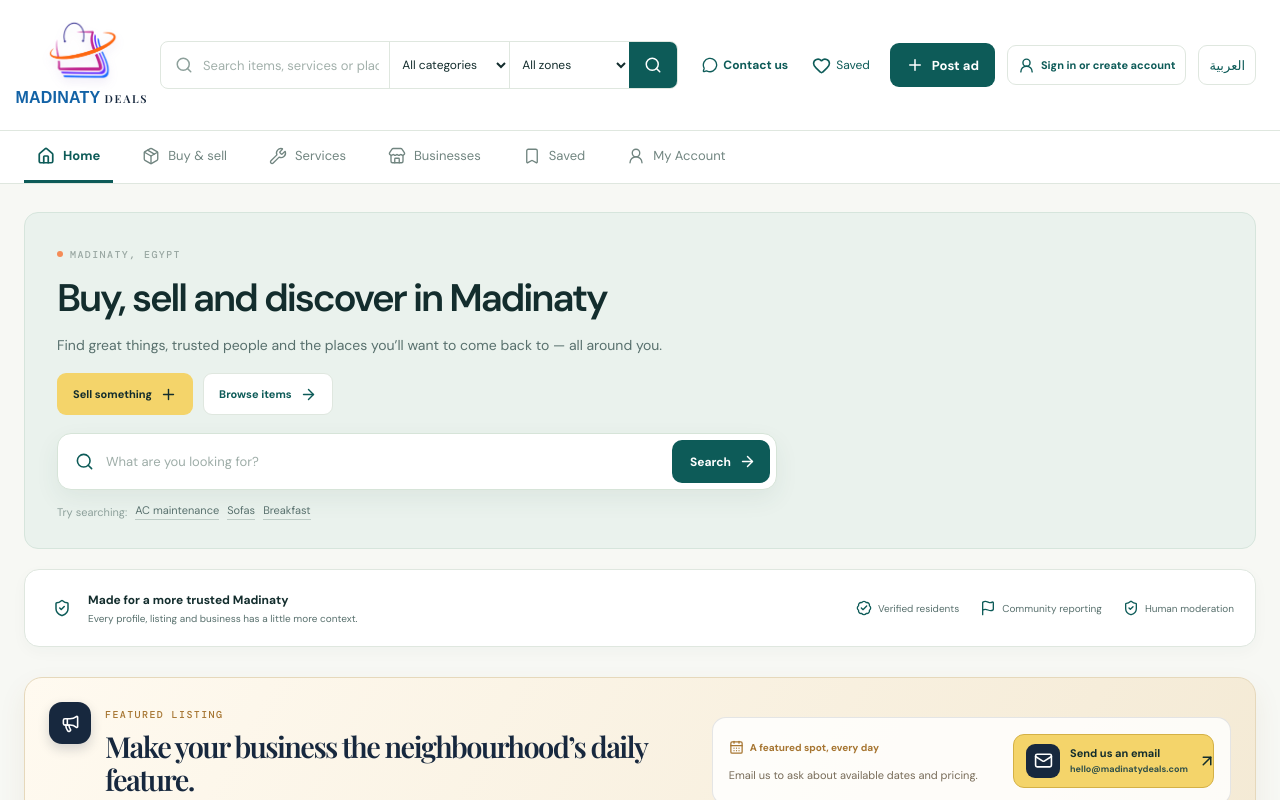
Test: returns to home after a normal email-code sign-in
Click the button "Sign in or create account" at point(1097, 65), box [1007,45,1186,85]
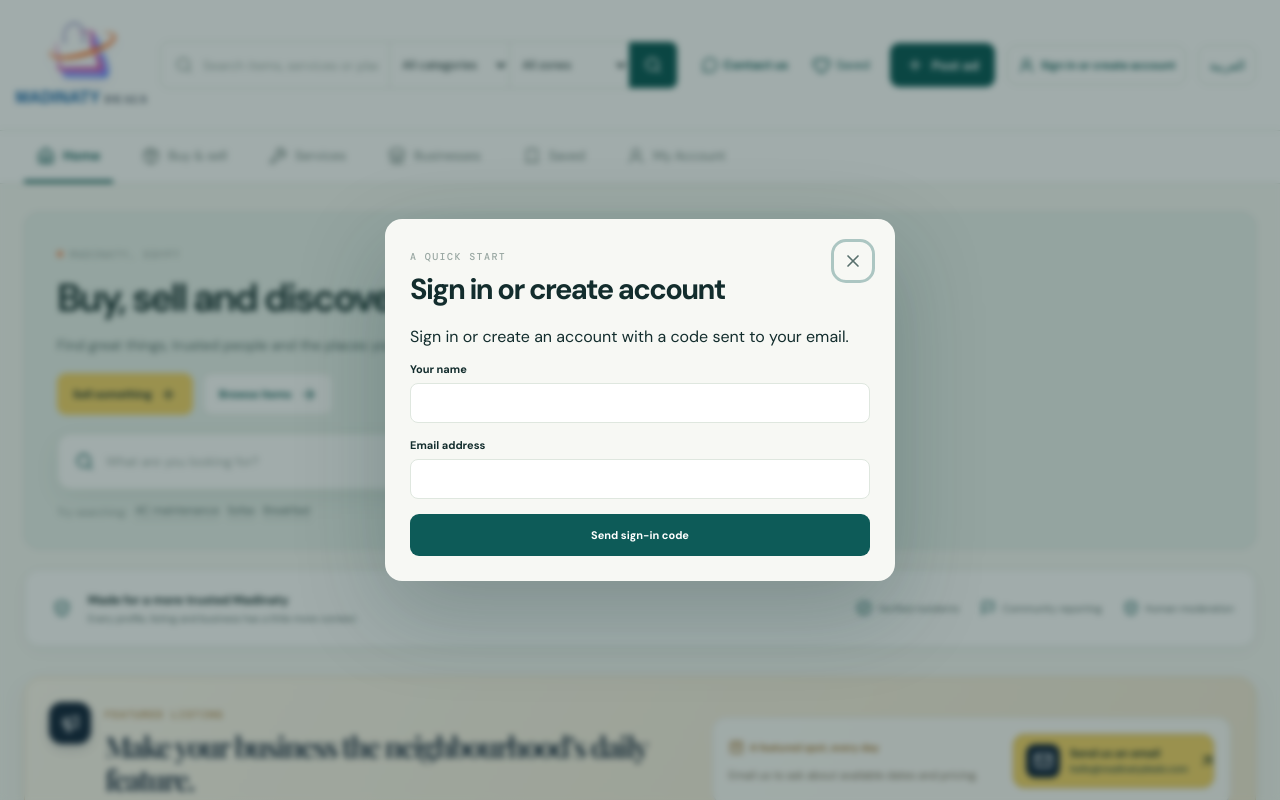
Type "Nour" into the field labelled "Your name" at point(640, 403), box [410,383,870,423]
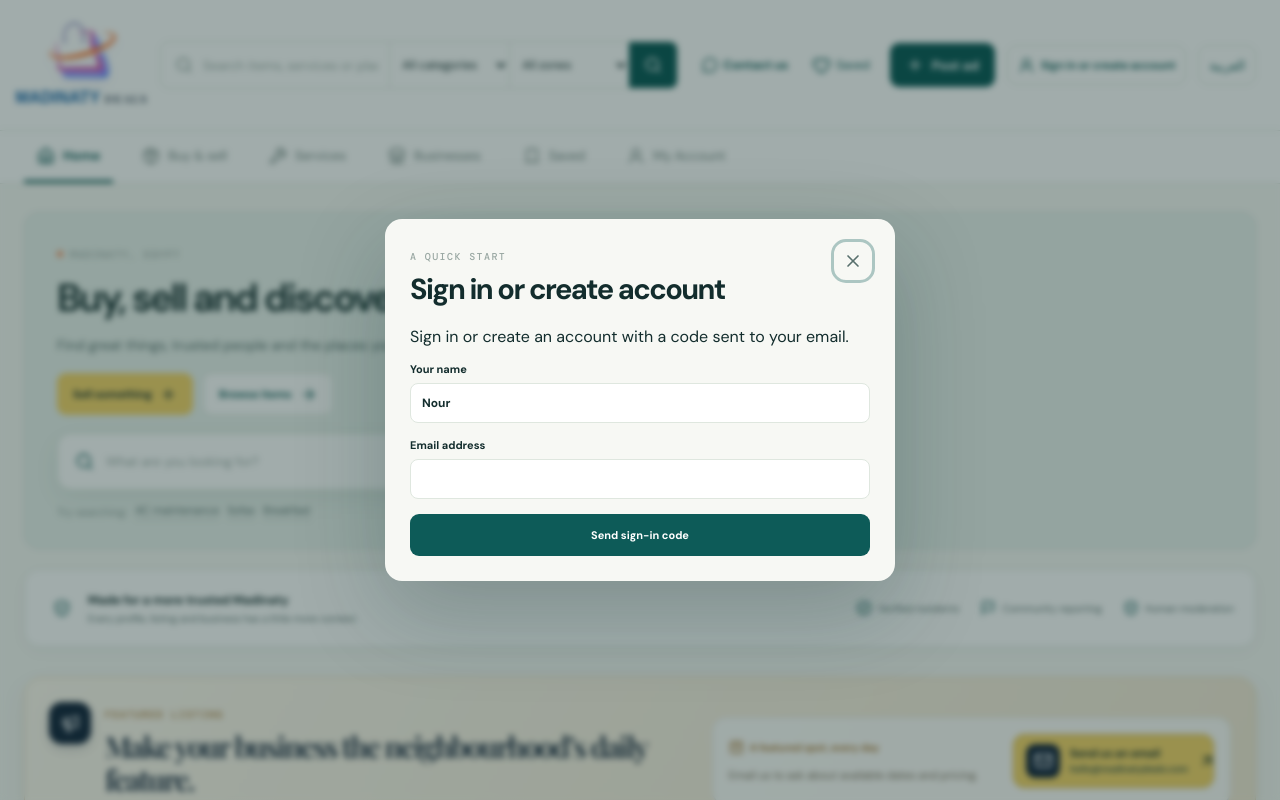
Type "nour@example.test" into the field labelled "Email address" at point(640, 479), box [410,459,870,499]
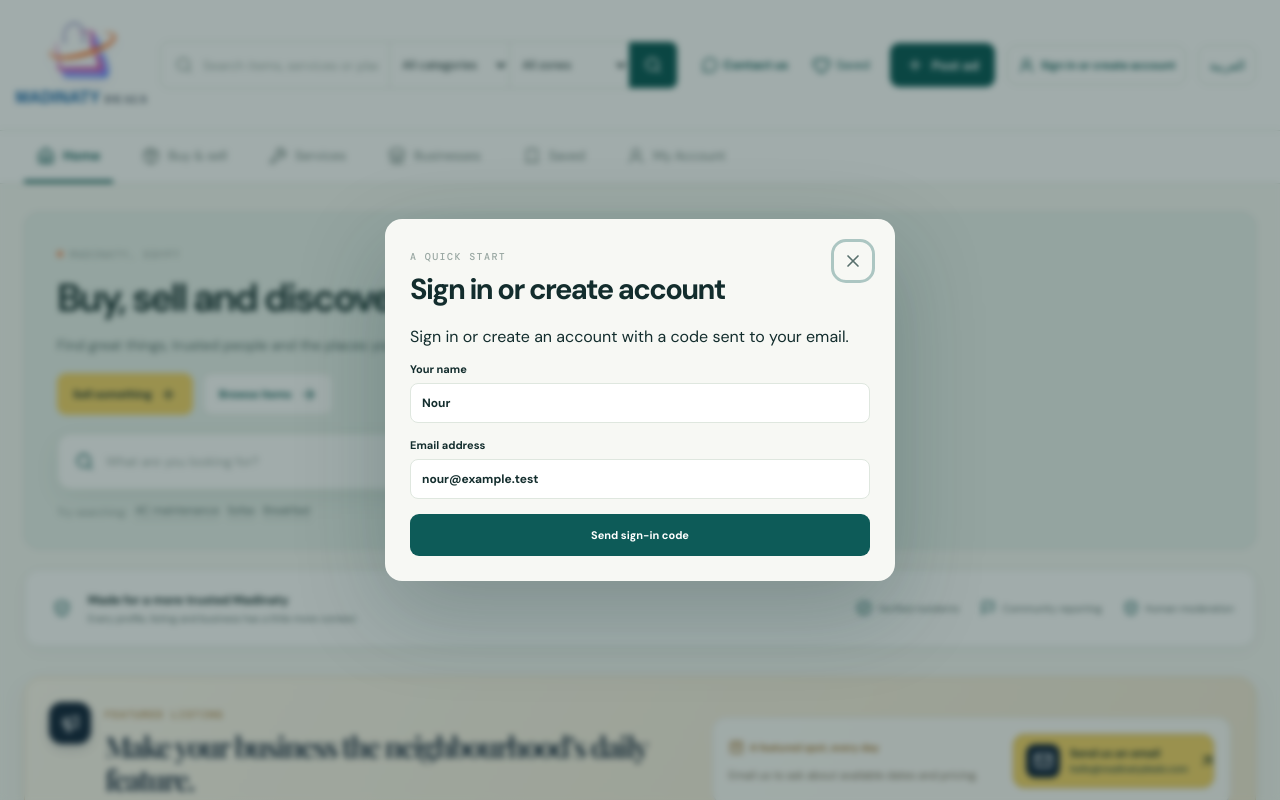
Click the button "Send sign-in code" at point(640, 535), box [410,514,870,556]
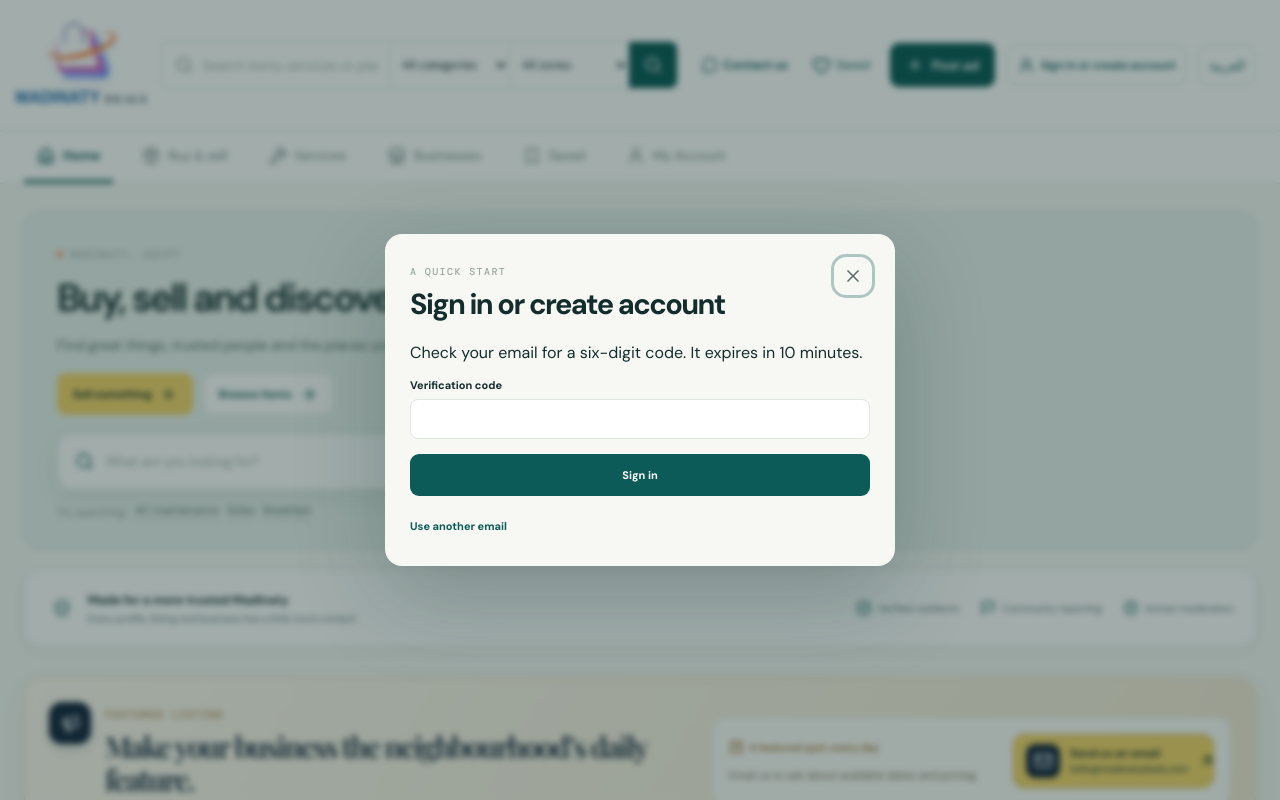
Type "123456" into the field labelled "Verification code" at point(640, 419), box [410,399,870,439]
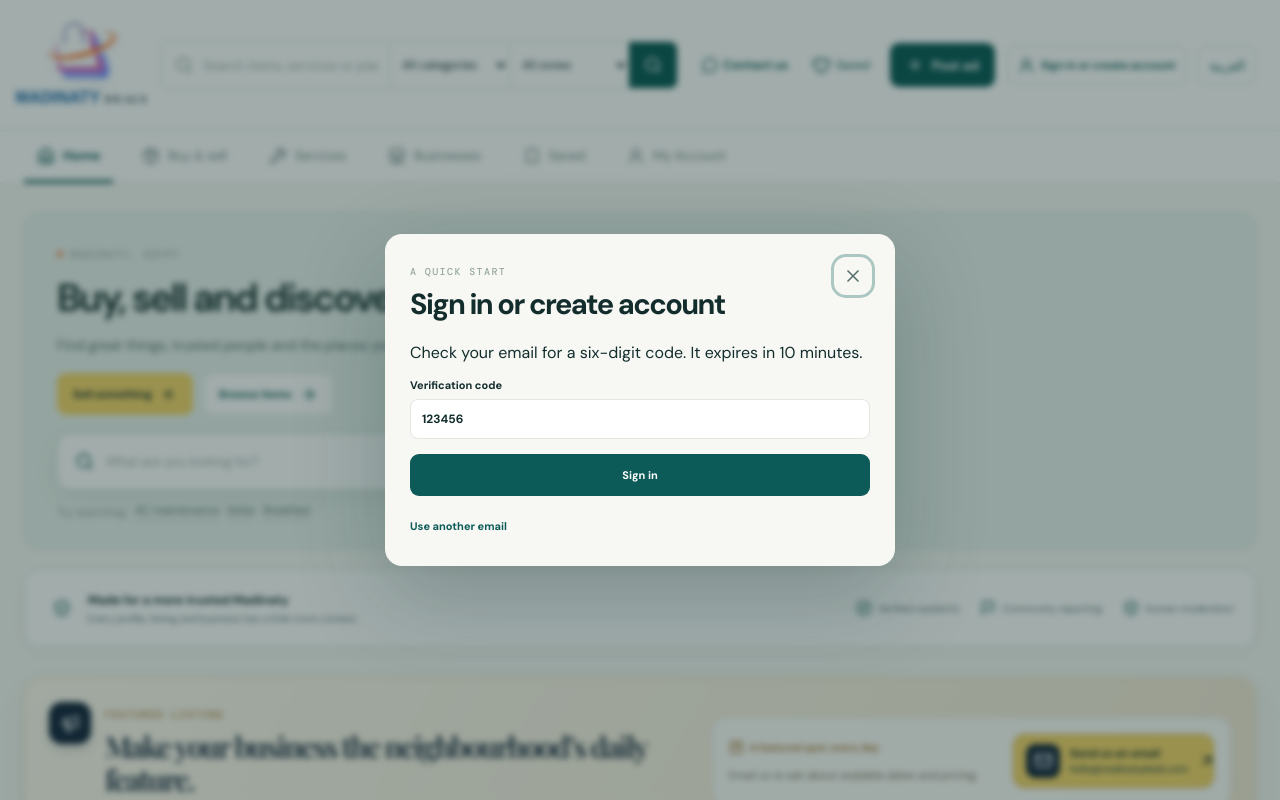
Click the button "Sign in" at point(640, 475), box [410,454,870,496]
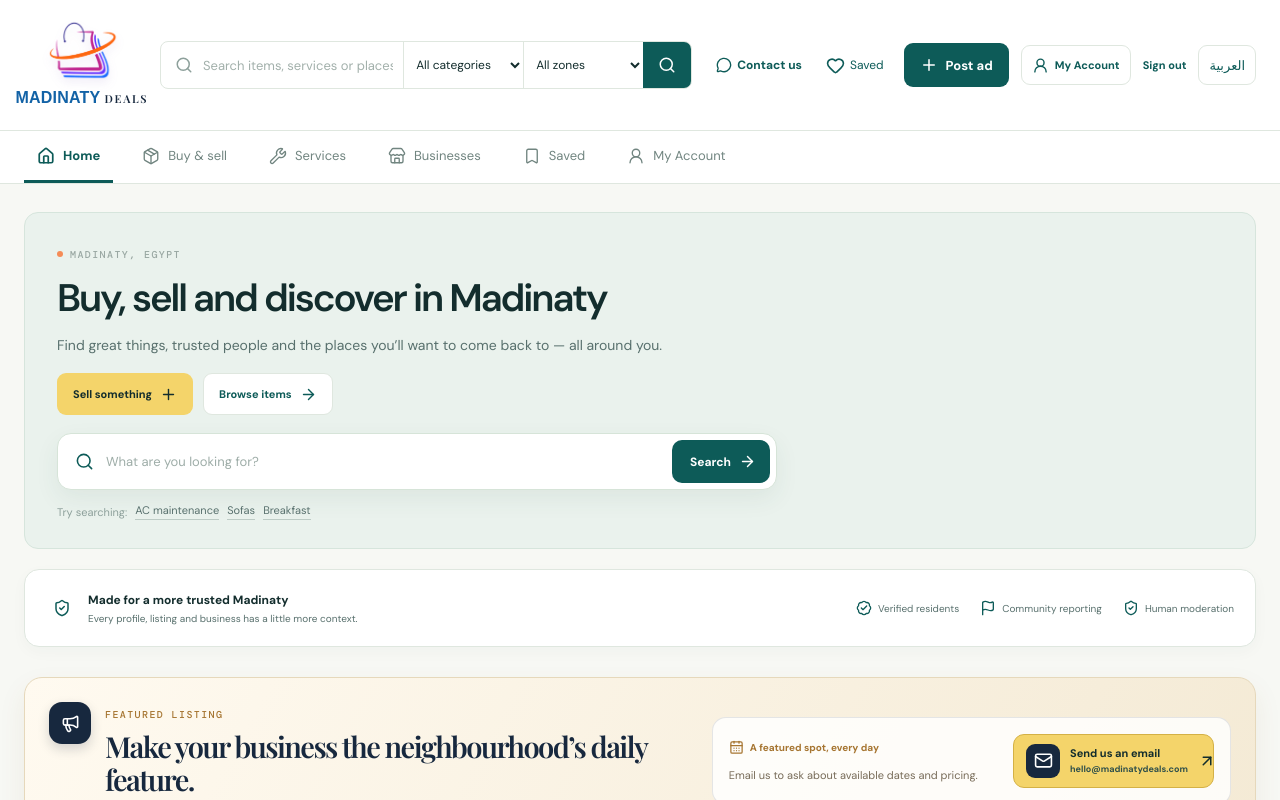
expect the heading "Buy, sell and discover in Madinaty" is shown: met, box [57,273,607,323]
expect the button "Sign out" is shown: met, box [1143,50,1186,80]
